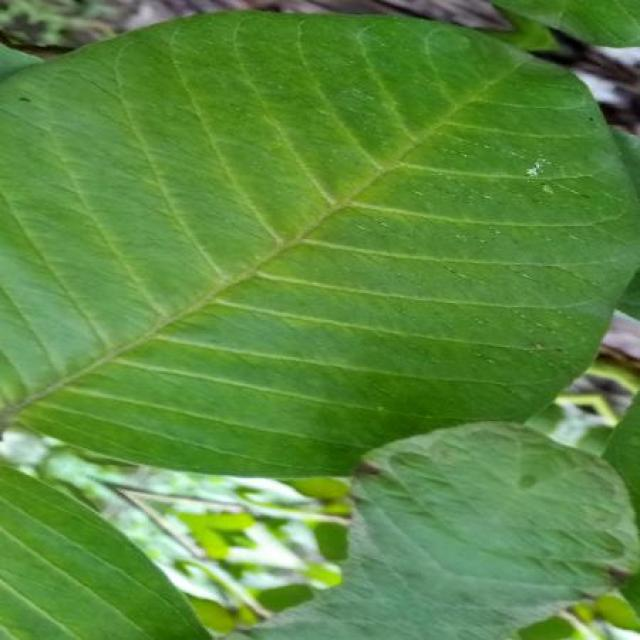Disease Free: (0, 14, 640, 476), (249, 422, 639, 640), (0, 464, 211, 640)
